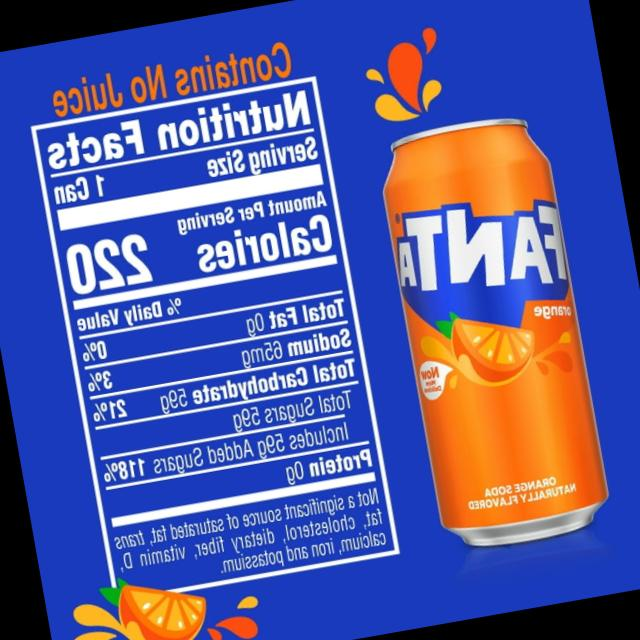fanta: (368, 103, 624, 570)
